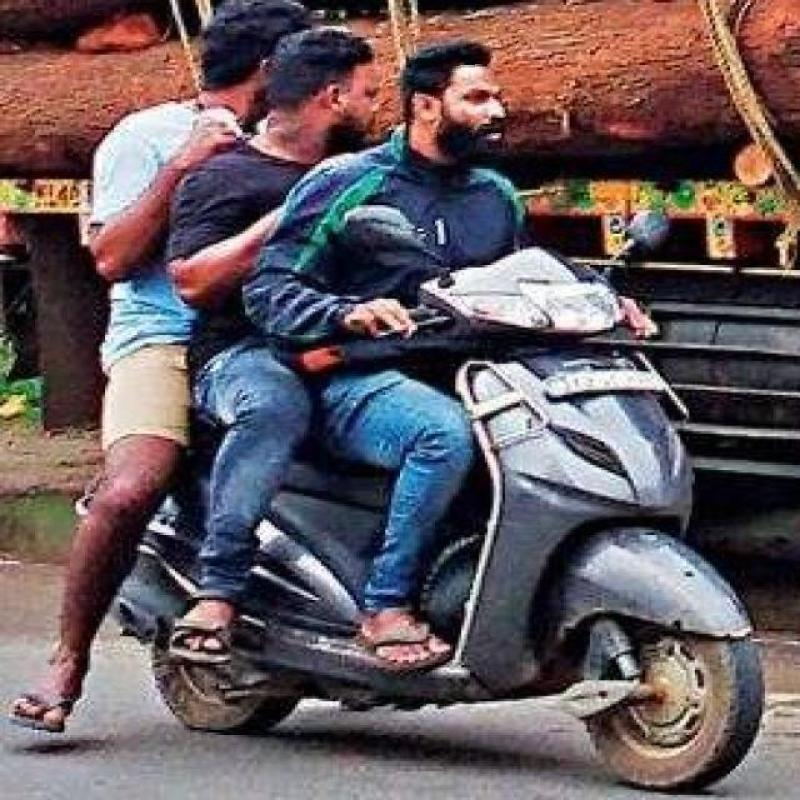nohelmet: (415, 31, 536, 169), (266, 23, 388, 143)
